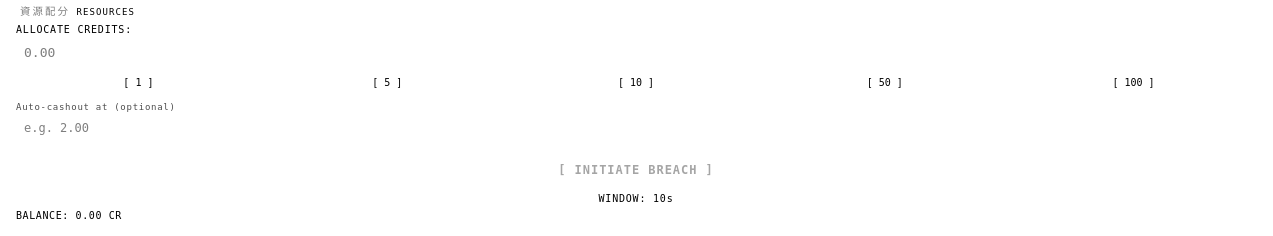
Scenario: BetForm component › wager preset buttons › sets wager input value when a preset button is clicked
Click the button "[ 50 ]" at (885, 83), box [762,73,1007,92]
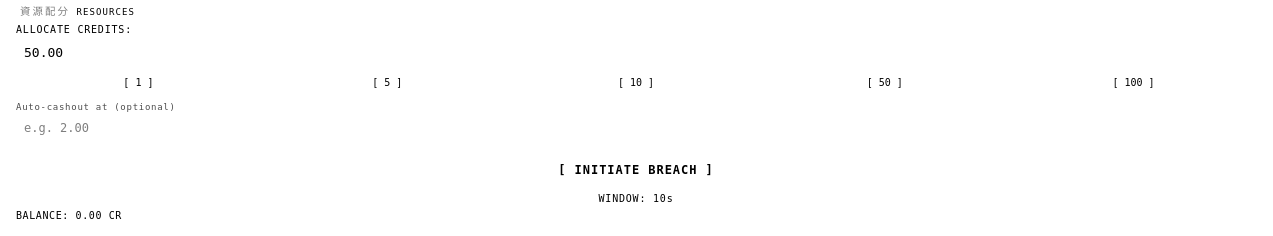
Expected: the number field named "Wager" holds "50.00", [16,39,1256,67]
